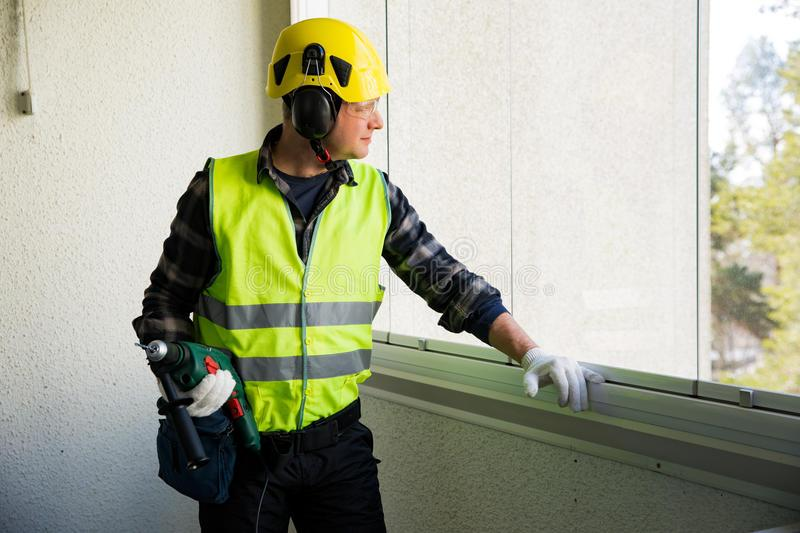helmet: (271, 20, 394, 105)
